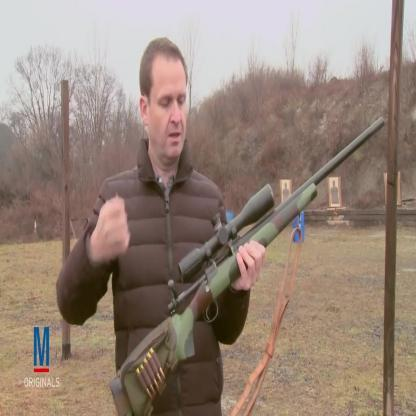Gun: (103, 87, 402, 410)
